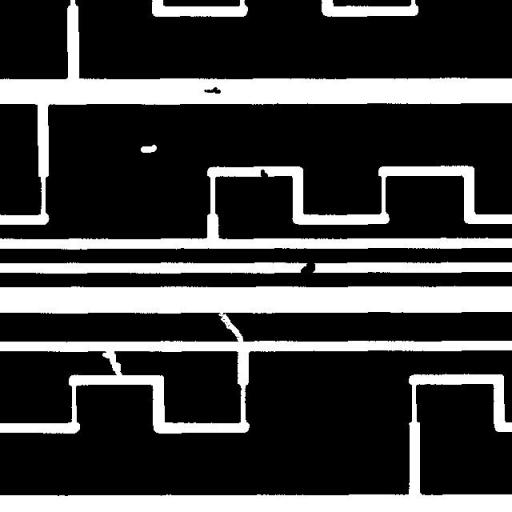copper: (196, 79, 228, 101)
open: (209, 301, 250, 351), (94, 340, 130, 386)
pin-hole: (133, 137, 164, 160)
short: (293, 254, 322, 283)
spur: (253, 162, 275, 186)
